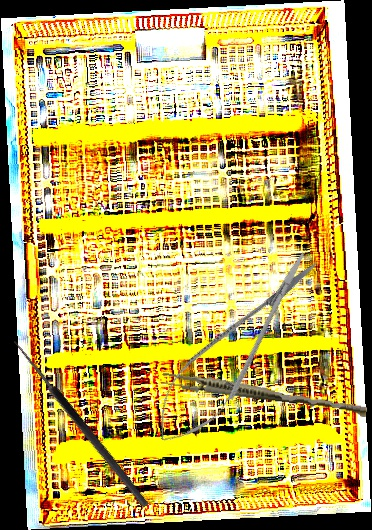Hook Surgical: (1, 337, 152, 516)
Micro Scissor: (137, 237, 335, 460)
Tissue Forceps: (160, 370, 369, 418)
